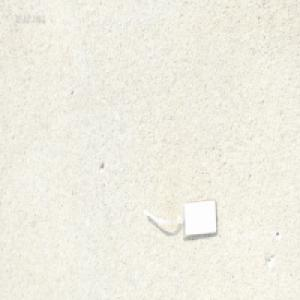LuggageTag: (143, 197, 218, 239)
